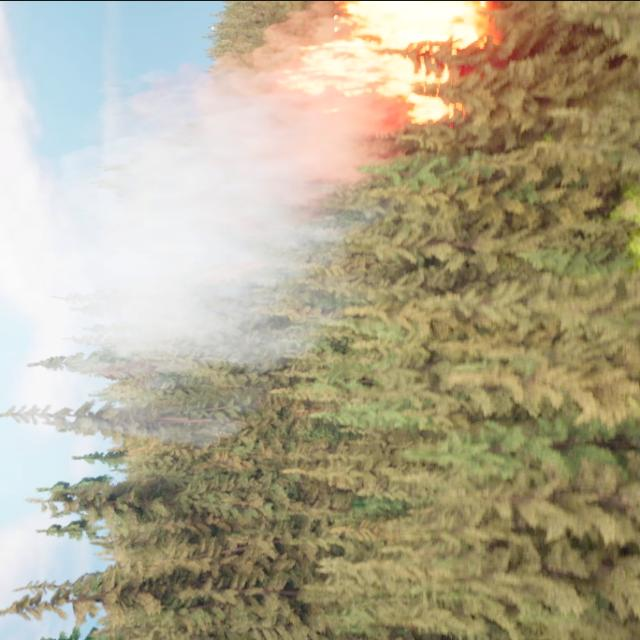fire: (272, 0, 494, 124)
smoke: (1, 12, 397, 438)
